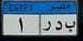1: (17, 15, 26, 32)
ب: (63, 18, 77, 32)
د: (52, 20, 64, 30)
ر: (42, 19, 52, 33)
